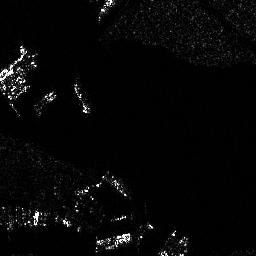ship: (103, 169, 129, 197), (72, 81, 91, 114), (32, 91, 58, 114), (97, 1, 117, 19), (32, 209, 39, 228)
